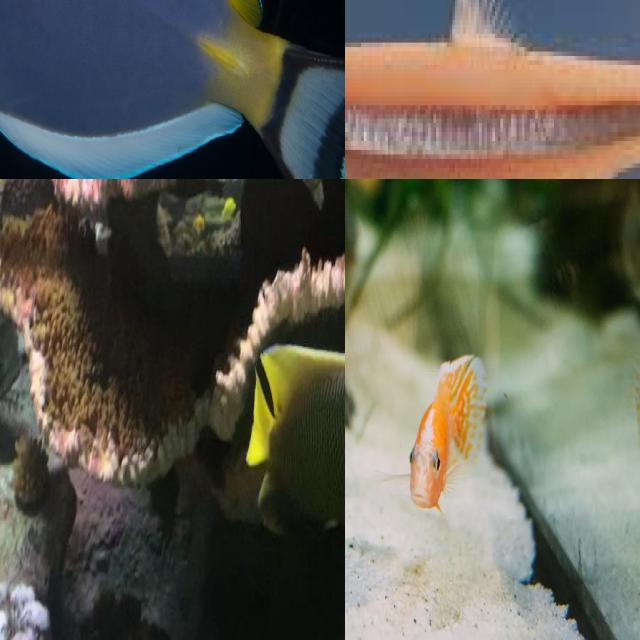fish: (345, 179, 640, 640), (0, 0, 345, 179), (345, 0, 640, 179)
